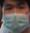with_mask: (1, 1, 30, 33)
